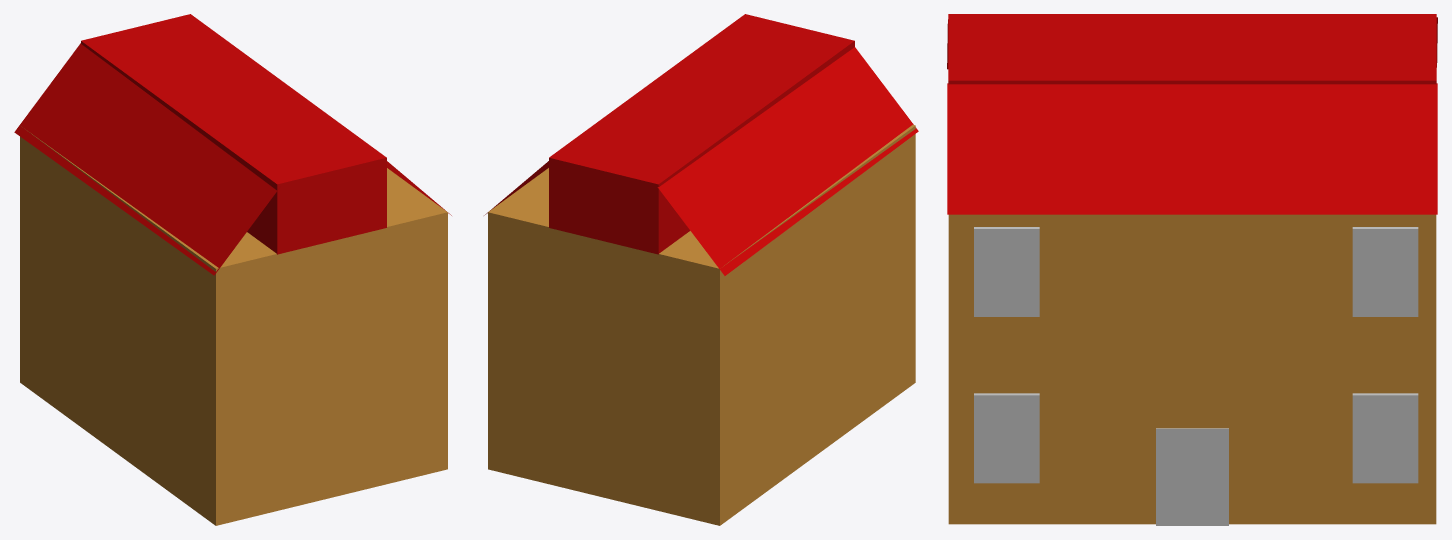
Rendered from House.obj.
The picture shows the model from 3 angles, left to right: view 1: azimuth 30°, elevation 25°; view 2: azimuth 150°, elevation 25°; view 3: azimuth 270°, elevation 25°; orthographic projection. The views are drawn at different scales.
Parts seen in each view (by area): view 1: Cube, Cube.001, Plane.001; view 2: Cube, Cube.001, Plane.001; view 3: Cube, Plane, Cube.001, Cube.002, Cube.005, Cube.004, Cube.006, Cube.003.
Boxes of the visible parts, box(x1,y1,x2,y2) form: Cube: box(20, 126, 447, 525); Cube.001: box(81, 14, 386, 254); Plane.001: box(14, 43, 280, 275); Cube: box(488, 125, 915, 525); Cube.001: box(549, 14, 854, 254); Plane.001: box(657, 47, 918, 275); Cube: box(948, 214, 1436, 524); Plane: box(947, 83, 1437, 214); Cube.001: box(948, 14, 1436, 84); Cube.002: box(1156, 428, 1228, 525); Cube.005: box(1352, 393, 1418, 483); Cube.004: box(1352, 227, 1418, 316); Cube.006: box(974, 393, 1039, 483); Cube.003: box(974, 227, 1039, 316).
Bounding box in the file's own units: 5.02 × 6.48 × 7.07.
